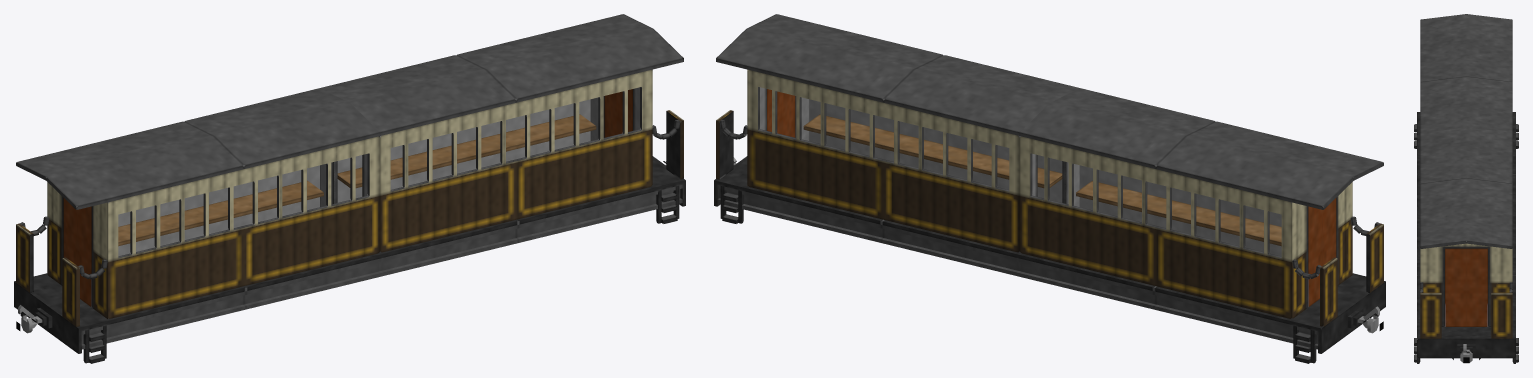
The model's file is kitsune_dragon_coach.obj.
3 renders of one model, left to right at view 1: azimuth 30°, elevation 25°; view 2: azimuth 150°, elevation 25°; view 3: azimuth 270°, elevation 25°, orthographic. The views are drawn at different scales.
Visible parts, largest first — view 1: SHELL_WOOD_roof_Cube.005, SHELL_WOOD_roof.001_Cube.002, SHELL_WOOD.004_Cube.029, SHELL_WOOD.005_Cube.040, SHELL_WOOD.002_Cube.028, SHELL_WOOD.001_Cube.045, SHELL_WOOD.003_Cube.044, SHELL_WOOD_INTERIOR.001_Cube.062, SHELL_WOOD_INTERIOR.003_Cube.067, FRAME_cab_Cube.060, SHELL_WOOD_INTERIOR.002_Cube.019, FRAME.003_Cube.066 (+11 smaller); view 2: SHELL_WOOD_roof_Cube.005, SHELL_WOOD_roof.001_Cube.002, SHELL_WOOD.004_Cube.029, SHELL_WOOD.005_Cube.040, SHELL_WOOD.002_Cube.028, SHELL_WOOD.001_Cube.045, SHELL_WOOD.003_Cube.044, SHELL_WOOD_INTERIOR.001_Cube.062, SHELL_WOOD_INTERIOR.003_Cube.067, FRAME_cab_Cube.060, SHELL_WOOD_INTERIOR.002_Cube.019, FRAME.003_Cube.066 (+11 smaller); view 3: SHELL_WOOD_roof_Cube.005, SHELL_WOOD_roof.001_Cube.002, SHELL_WOOD.008_Cube.073, FRAME_cab.001_Cube.074, DOOR_3_Cube.038, DOOR_4_Cube.039, SHELL_WOOD_cab_roof.001_Cube.071, SHELL_WOOD_cab_roof_Cube.075, FRAME.001_Cube.061, FRAME.003_Cube.066, FRAME_Cube.068, FRAME.002_Cube.065 (+2 smaller).
Boxes of the visible parts, bbox=[...] form: SHELL_WOOD_roof_Cube.005: bbox=[49, 88, 380, 201]; SHELL_WOOD_roof.001_Cube.002: bbox=[320, 22, 650, 135]; SHELL_WOOD.004_Cube.029: bbox=[242, 136, 380, 285]; SHELL_WOOD.005_Cube.040: bbox=[380, 103, 516, 252]; SHELL_WOOD.002_Cube.028: bbox=[514, 70, 650, 219]; SHELL_WOOD.001_Cube.045: bbox=[109, 169, 243, 318]; SHELL_WOOD.003_Cube.044: bbox=[16, 182, 109, 326]; SHELL_WOOD_INTERIOR.001_Cube.062: bbox=[185, 153, 369, 239]; SHELL_WOOD_INTERIOR.003_Cube.067: bbox=[458, 87, 641, 173]; FRAME_cab_Cube.060: bbox=[14, 273, 111, 363]; SHELL_WOOD_INTERIOR.002_Cube.019: bbox=[336, 121, 502, 203]; FRAME.003_Cube.066: bbox=[379, 219, 518, 276]; SHELL_WOOD_roof_Cube.005: bbox=[1019, 88, 1350, 201]; SHELL_WOOD_roof.001_Cube.002: bbox=[749, 22, 1079, 135]; SHELL_WOOD.004_Cube.029: bbox=[1019, 136, 1157, 285]; SHELL_WOOD.005_Cube.040: bbox=[883, 103, 1019, 252]; SHELL_WOOD.002_Cube.028: bbox=[749, 70, 885, 219]; SHELL_WOOD.001_Cube.045: bbox=[1156, 169, 1290, 318]; SHELL_WOOD.003_Cube.044: bbox=[1290, 182, 1383, 326]; SHELL_WOOD_INTERIOR.001_Cube.062: bbox=[1030, 153, 1214, 239]; SHELL_WOOD_INTERIOR.003_Cube.067: bbox=[758, 87, 941, 173]; FRAME_cab_Cube.060: bbox=[1288, 273, 1385, 363]; SHELL_WOOD_INTERIOR.002_Cube.019: bbox=[897, 121, 1063, 203]; FRAME.003_Cube.066: bbox=[881, 219, 1020, 276]; SHELL_WOOD_roof_Cube.005: bbox=[1420, 26, 1512, 132]; SHELL_WOOD_roof.001_Cube.002: bbox=[1420, 127, 1512, 233]; SHELL_WOOD.008_Cube.073: bbox=[1420, 243, 1512, 338]; FRAME_cab.001_Cube.074: bbox=[1414, 326, 1518, 363]; DOOR_3_Cube.038: bbox=[1445, 248, 1466, 326]; DOOR_4_Cube.039: bbox=[1466, 248, 1487, 326]; SHELL_WOOD_cab_roof.001_Cube.071: bbox=[1420, 228, 1512, 248]; SHELL_WOOD_cab_roof_Cube.075: bbox=[1420, 14, 1512, 31]; FRAME.001_Cube.061: bbox=[1417, 174, 1515, 225]; FRAME.003_Cube.066: bbox=[1417, 225, 1515, 275]; FRAME_Cube.068: bbox=[1417, 124, 1515, 174]; FRAME.002_Cube.065: bbox=[1417, 276, 1515, 326].
Size of the model in its own units: 11.88 by 2.94 by 2.12.
5 materials, 5 textured.
